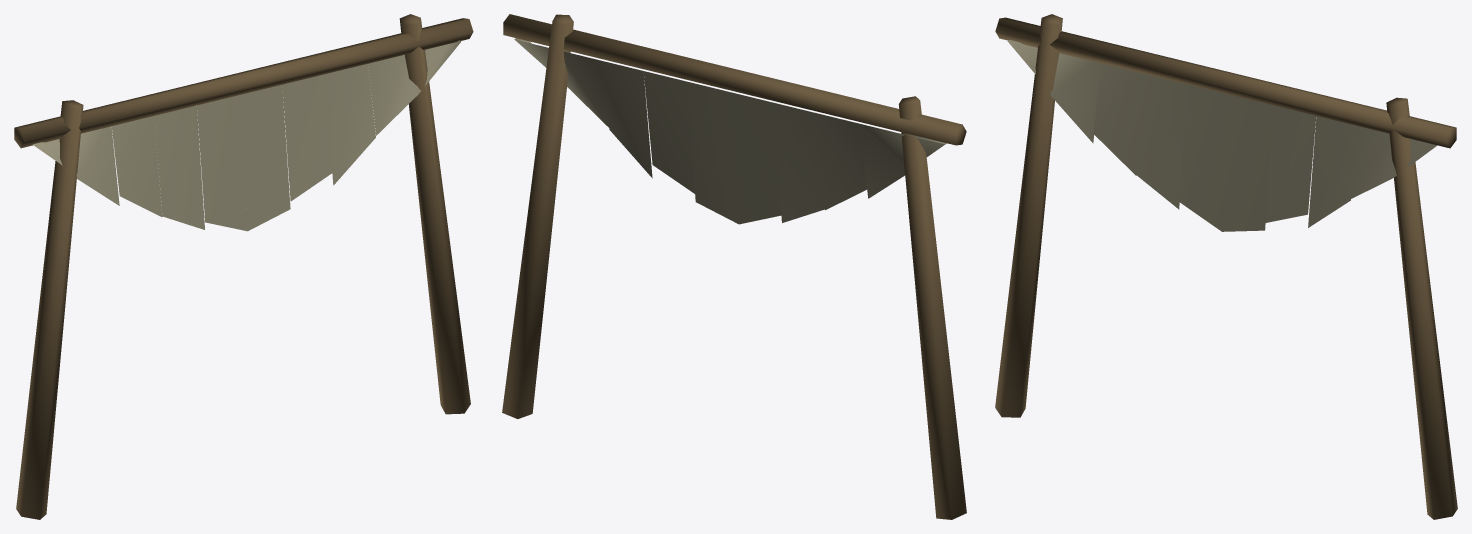
The model's file is net-rack.glb.
3 views of the same model, side by side, from view 1: azimuth 30°, elevation 25°; view 2: azimuth 150°, elevation 25°; view 3: azimuth 330°, elevation 25° (orthographic).
Parts seen in each view (by area): view 1: 씬1.그물틀; view 2: 씬1.그물틀; view 3: 씬1.그물틀.
Part boxes in pixels (<box>): 씬1.그물틀: <box>14,14,473,519</box>; 씬1.그물틀: <box>502,14,966,519</box>; 씬1.그물틀: <box>995,14,1457,519</box>.
Size of the model in its own units: 1.83 by 1.55 by 0.1316.
